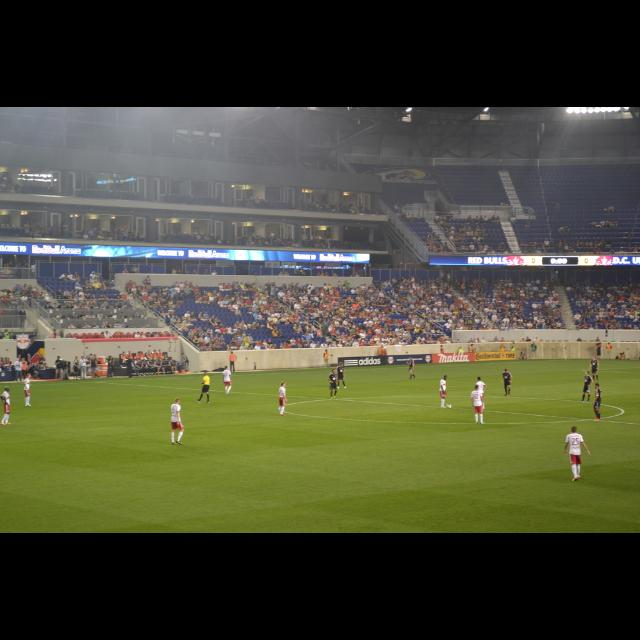Football: (446, 404, 450, 406)
